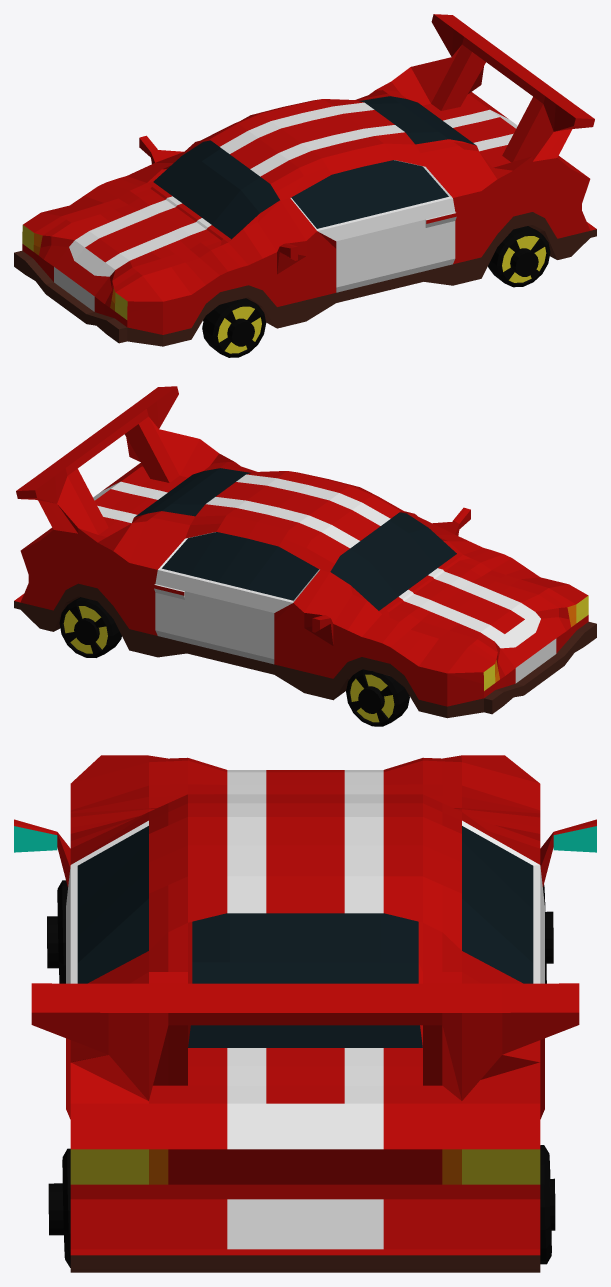
File: sport.glb
3 views of the same model, one above another, from view 1: azimuth 30°, elevation 25°; view 2: azimuth 150°, elevation 25°; view 3: azimuth 270°, elevation 25° (orthographic). The views are drawn at different scales.
Visible parts, largest first — view 1: Cube.001, Cilindro, Cilindro.005, Cilindro.004, Cilindro.001; view 2: Cube.001, Cilindro.003, Cilindro.002, Cilindro.001, Cilindro.004; view 3: Cube.001, Cilindro.003, Cilindro.004, Cilindro.001, Cilindro.005, Cilindro.
Boxes of the visible parts, x1,y1,x2,y2 form: Cube.001: (14,14,596,346); Cilindro: (202,298,266,357); Cilindro.005: (488,226,550,287); Cilindro.004: (510,248,538,276); Cilindro.001: (203,318,254,346); Cube.001: (14,386,596,718); Cilindro.003: (59,597,121,657); Cilindro.002: (346,669,409,726); Cilindro.001: (358,686,384,713); Cilindro.004: (74,618,99,644); Cube.001: (14,755,596,1272); Cilindro.003: (540,1145,551,1264); Cilindro.004: (48,1178,555,1235); Cilindro.001: (47,911,553,968); Cilindro.005: (62,1148,70,1267); Cilindro: (57,880,67,983).
Size of the model in its own units: 12.11 by 4.08 by 6.75.
